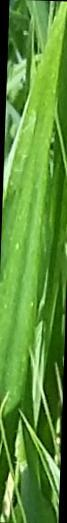Wheat: (0, 185, 52, 363)
